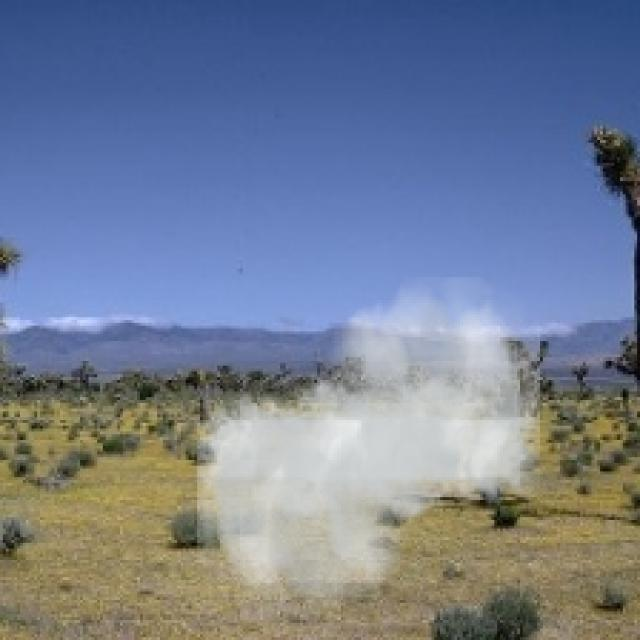smoke: (197, 277, 540, 620)
